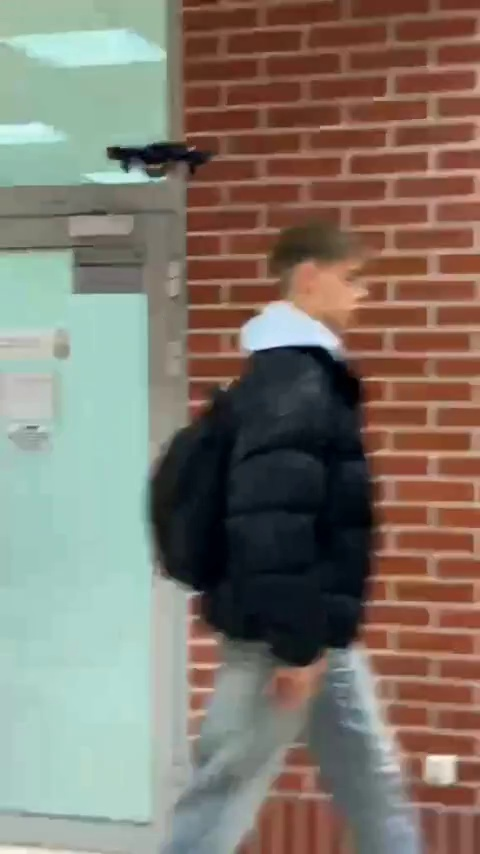drone: (107, 141, 212, 181)
no vest: (147, 219, 420, 848)
